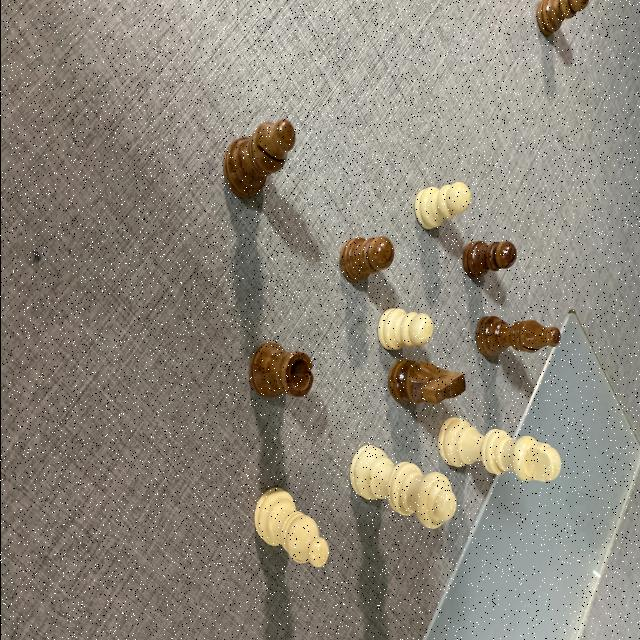Black-Bishop: (220, 118, 296, 204), (478, 316, 560, 354)
Black-Knight: (388, 362, 465, 406)
Black-Pawn: (339, 238, 395, 280), (463, 240, 518, 282), (537, 0, 590, 34)
Black-Rook: (248, 344, 312, 400)
White-Bishop: (253, 489, 331, 569)
White-King: (436, 414, 562, 484)
White-Pawn: (412, 180, 470, 232), (376, 308, 432, 350)
White-Queen: (349, 442, 453, 539)
